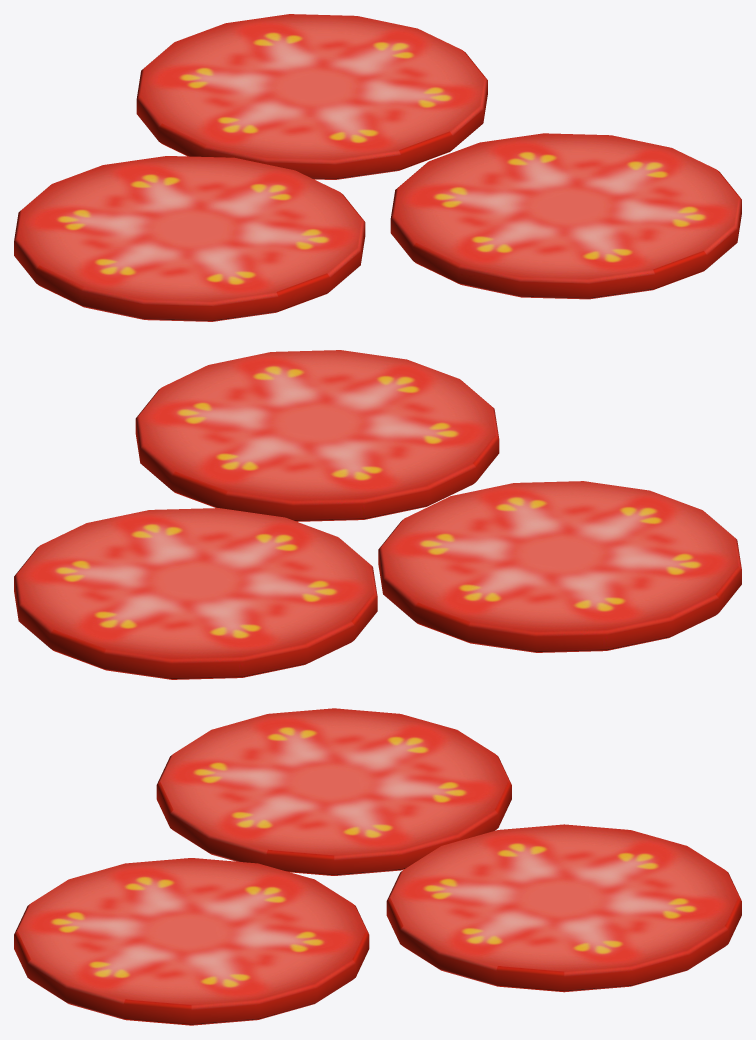
The model's file is TomatoSlices_Visual.glb.
The picture shows the model from 3 angles, top to bottom: view 1: azimuth 30°, elevation 25°; view 2: azimuth 150°, elevation 25°; view 3: azimuth 270°, elevation 25°; orthographic projection. The views are drawn at different scales.
Parts seen in each view (by area): view 1: Tomato slice (1), Tomato slice, Tomato slice (2); view 2: Tomato slice (1), Tomato slice (2), Tomato slice; view 3: Tomato slice, Tomato slice (2), Tomato slice (1).
Part boxes in pixels (x1,y1,x2,y2): Tomato slice (1): (14, 156, 365, 321); Tomato slice: (390, 133, 741, 299); Tomato slice (2): (136, 14, 487, 179); Tomato slice (1): (378, 481, 741, 652); Tomato slice (2): (14, 508, 377, 679); Tomato slice: (135, 350, 499, 521); Tomato slice: (14, 858, 369, 1025); Tomato slice (2): (386, 824, 741, 992); Tomato slice (1): (156, 708, 511, 875).
Bounding box in the file's own units: 0.6814 × 0.022 × 0.6994.
Materials: 1 (1 with a texture image).
